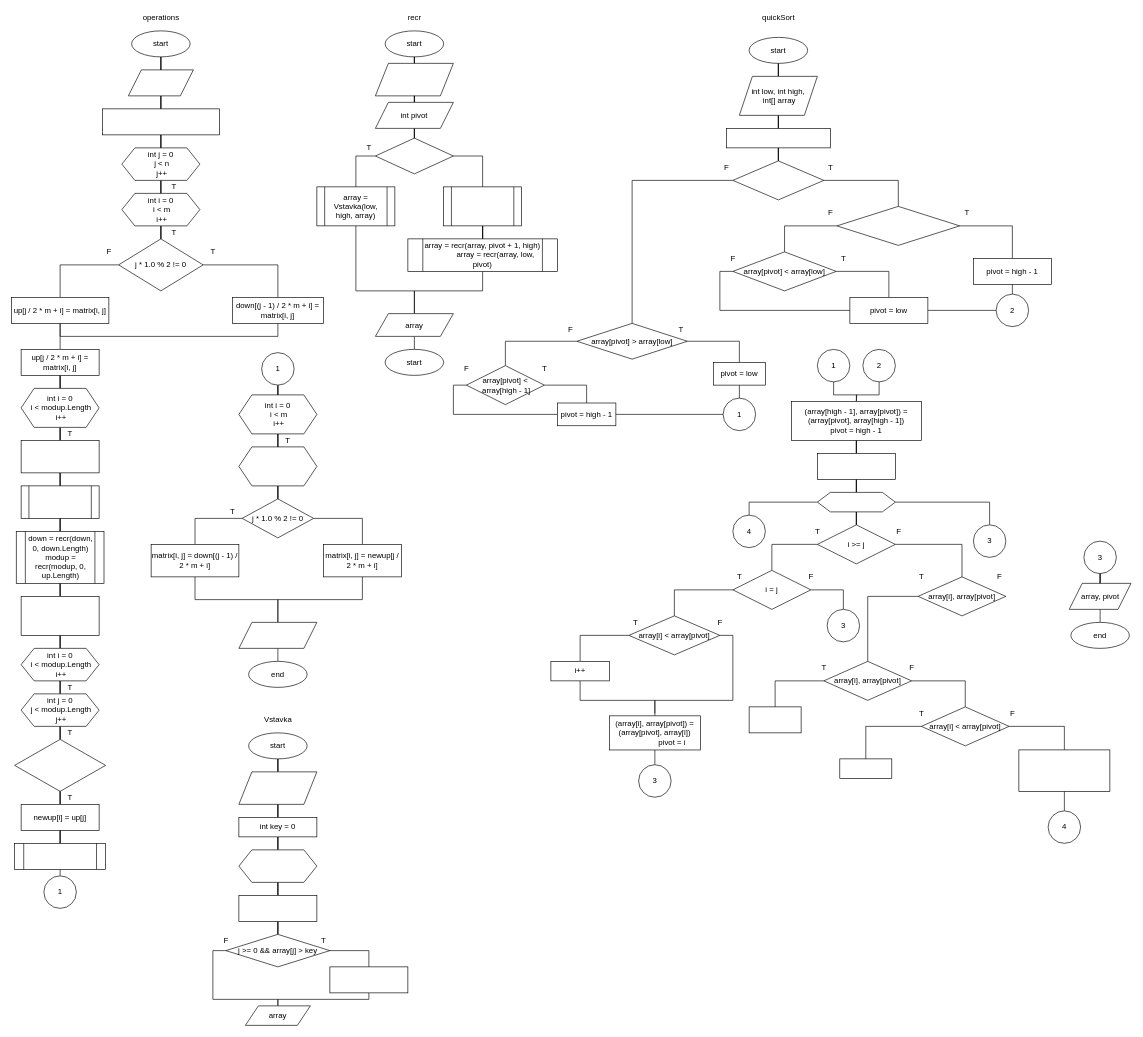
Image size: 1143x1037. Some labels were removed from this diagram. Here are the shapes that lost their labels. From the top down, the centre of each, then its label:
point 160,82: int m, int n int[,] matrix
point 414,79: int m, int n int[] array, int low, int high
point 160,121: int [] down = new int[m * (n / 2)] nt[] up = new int[m * ((n + 1) / 2)]
point 778,138: int pivot = (low + high - 1) / 2
point 414,155: high - low < m
point 778,180: array[high - 1] > array[low]
point 482,206: (array, pivot) = quickSort(low, high, array)
point 898,225: array[pivot] > array[high - 1]
point 59,456: modup[i] = Math.Abs(up[i])
point 277,466: int j = 0 j < m j++
point 856,466: int i = low int j = pivot - 1
point 59,501: outputArray (down, up)
point 856,502: true
point 59,615: int[] newup = new int[up.Length]
point 277,635: matrix
point 774,719: i++ j--
point 60,765: modup[i] == Math.Abs(up[j])
point 865,768: j--
point 1064,770: (array[i], array[j]) = (array[j], array[i]) i++ j--
point 277,787: int low int high int[] array
point 60,856: outputArray(down, newup);
point 277,865: int i = low i < high i++
point 277,908: key = array[i] int j = i - 1
point 368,979: array[j + 1] = array[j] j -= 1
